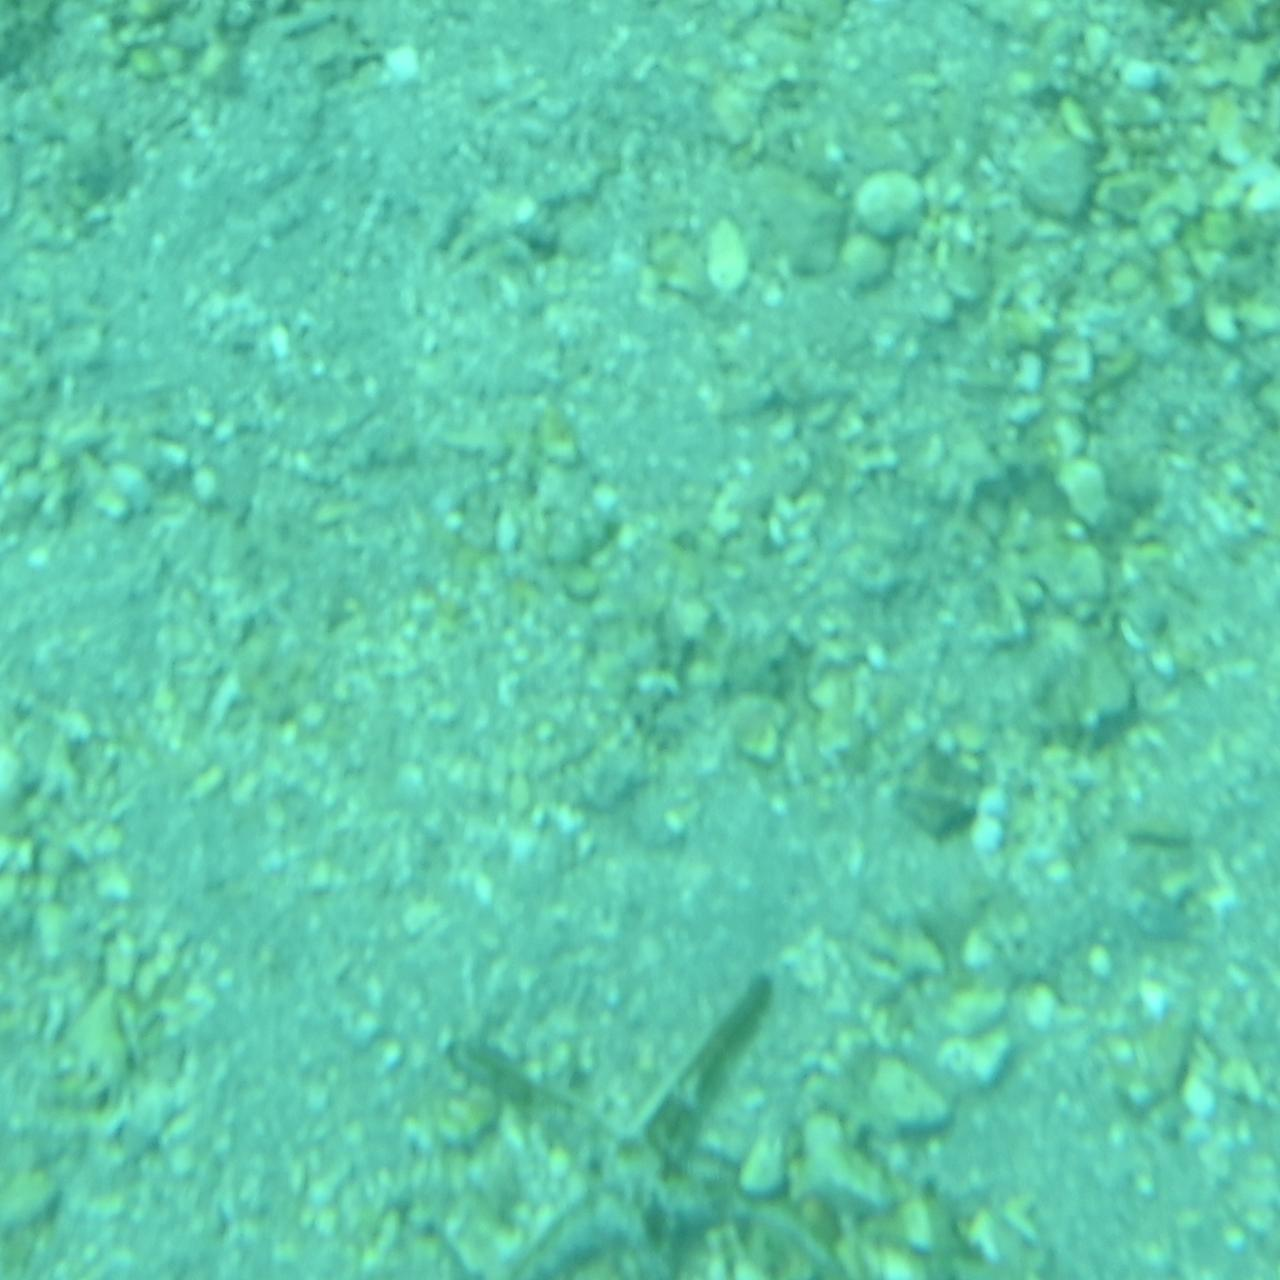Astropecten spp: (444, 965, 836, 1279)
